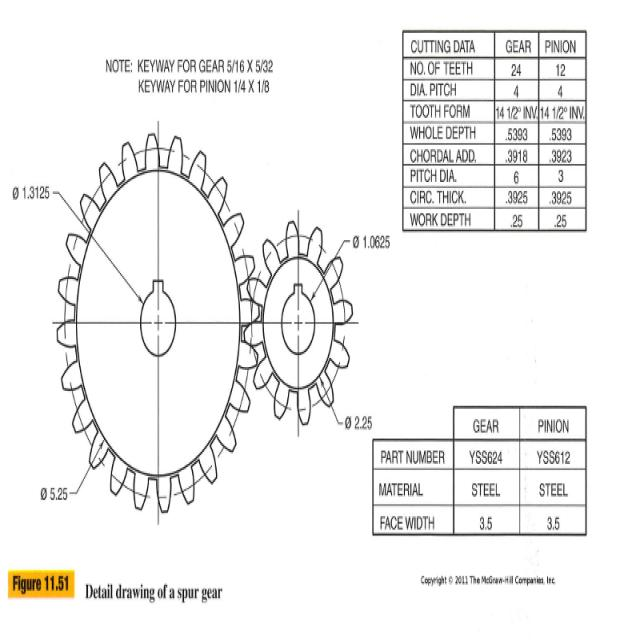Front view: (13, 97, 393, 525)
Table 1: (402, 29, 587, 231)
Table 2: (371, 407, 589, 536)
text1: (103, 58, 275, 102)
text2: (12, 571, 226, 607)
text3: (421, 570, 557, 594)
